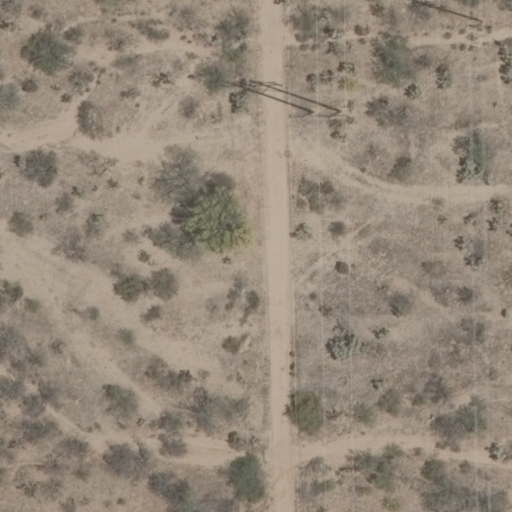DT: (283, 96, 354, 128), (466, 9, 490, 34)
